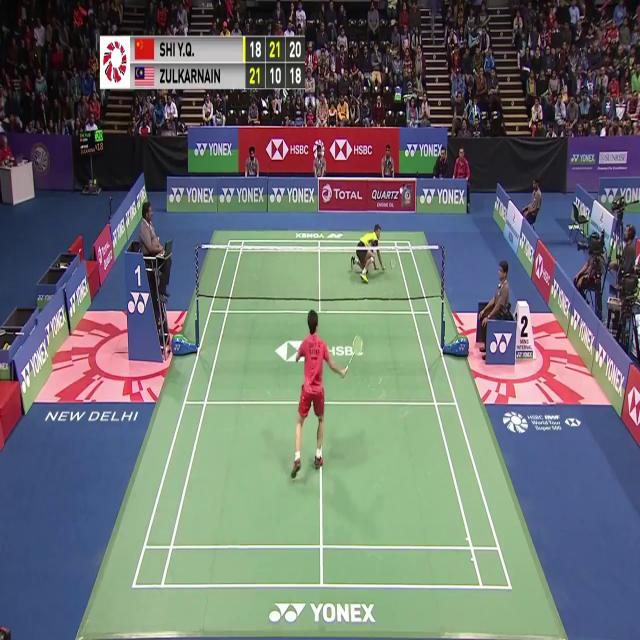Shuttlecock: (398, 188, 404, 200)
